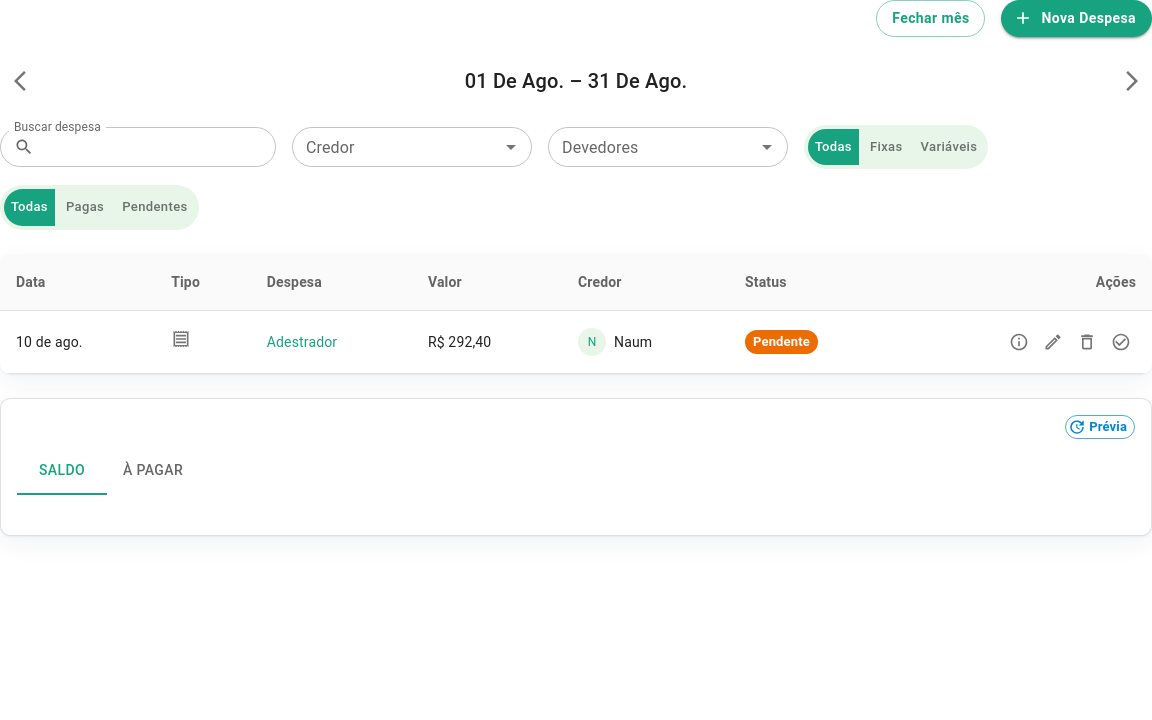
ExpenseManager - modal de detalhes: tipo, parcela e valor por pagador › shows "Parcelada n/N", the full expense total and each payer's share
Click the button named "Ver detalhes": (1019, 342) [1004, 327, 1034, 357]
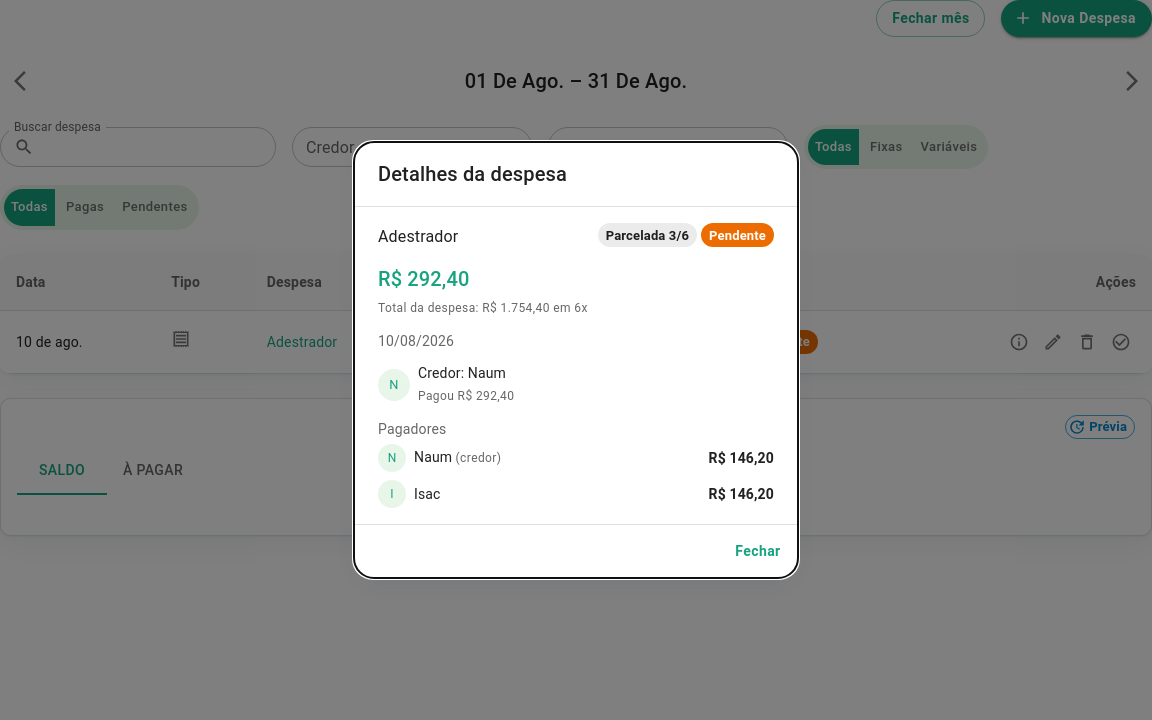
Result: the text "Parcelada 3/6" is shown at [606, 228, 689, 242]
Result: the text "Total da despesa: R$ 1.754,40 em 6x" is shown at [378, 301, 588, 315]
Result: the heading "R$ 292,40" is shown at [378, 267, 469, 291]
